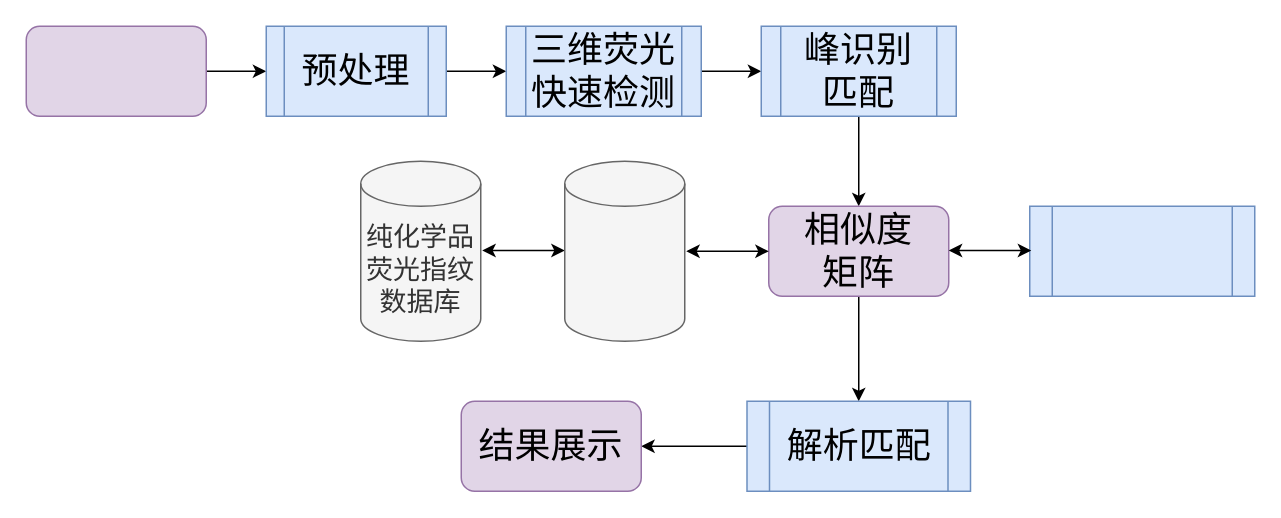
Some shapes in this 1281 by 518 pixel diagram are drawn without their labels. Here are the shapes that lost their labels. From the top down, the centre of each, then its label:
At point 115,70: "水样样品".
At point 624,250: "污染源 荧光 指纹 数据库".
At point 1141,250: "PARAFAC-SOM".
